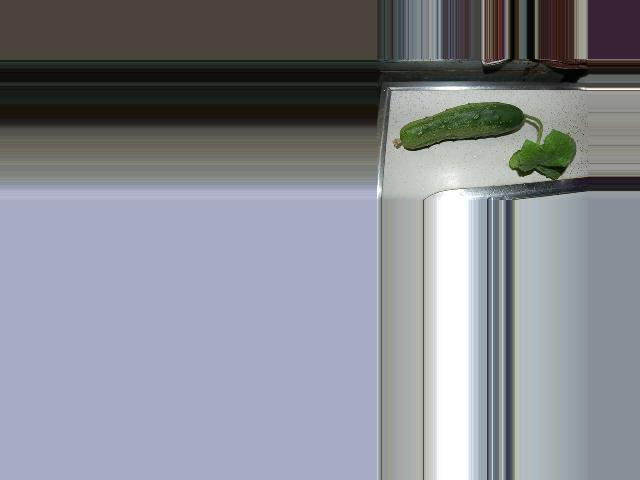cucumber: (392, 102, 526, 150)
